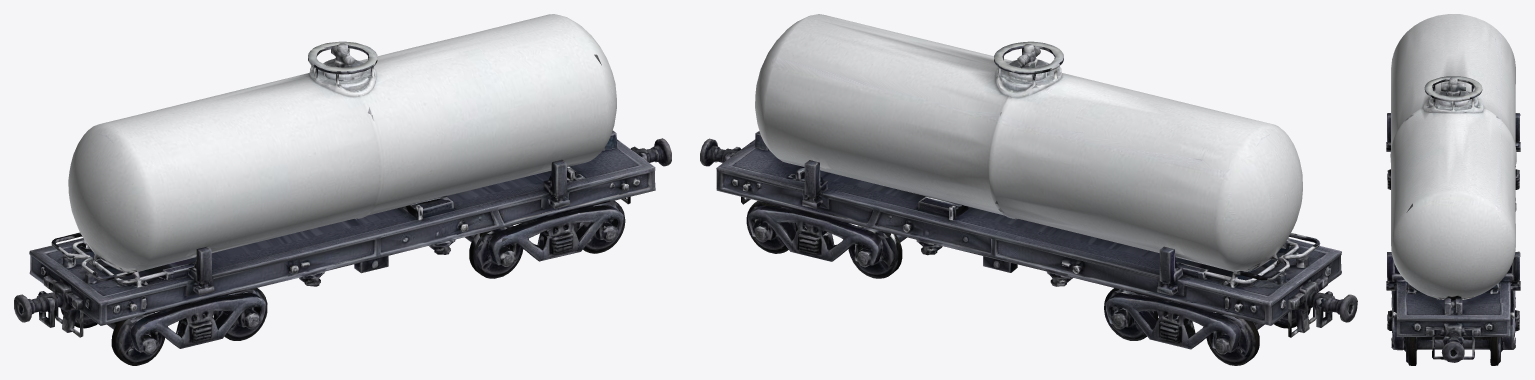
Rendered from tanker.glb.
3 renders of one model, left to right at view 1: azimuth 30°, elevation 25°; view 2: azimuth 150°, elevation 25°; view 3: azimuth 270°, elevation 25°, orthographic. The views are drawn at different scales.
Parts seen in each view (by area): view 1: tanker; view 2: tanker; view 3: tanker.
Part boxes in pixels (<box>): tanker: <box>14,14,671,365</box>; tanker: <box>700,14,1357,365</box>; tanker: <box>1386,14,1520,365</box>.
Bounding box in the file's own units: 2.76 × 1 × 0.6234.
Materials: 1 (1 with a texture image).
